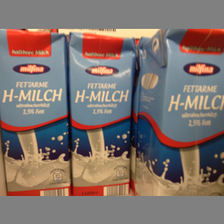milk: (137, 27, 224, 196), (1, 29, 71, 196), (69, 31, 137, 196)
